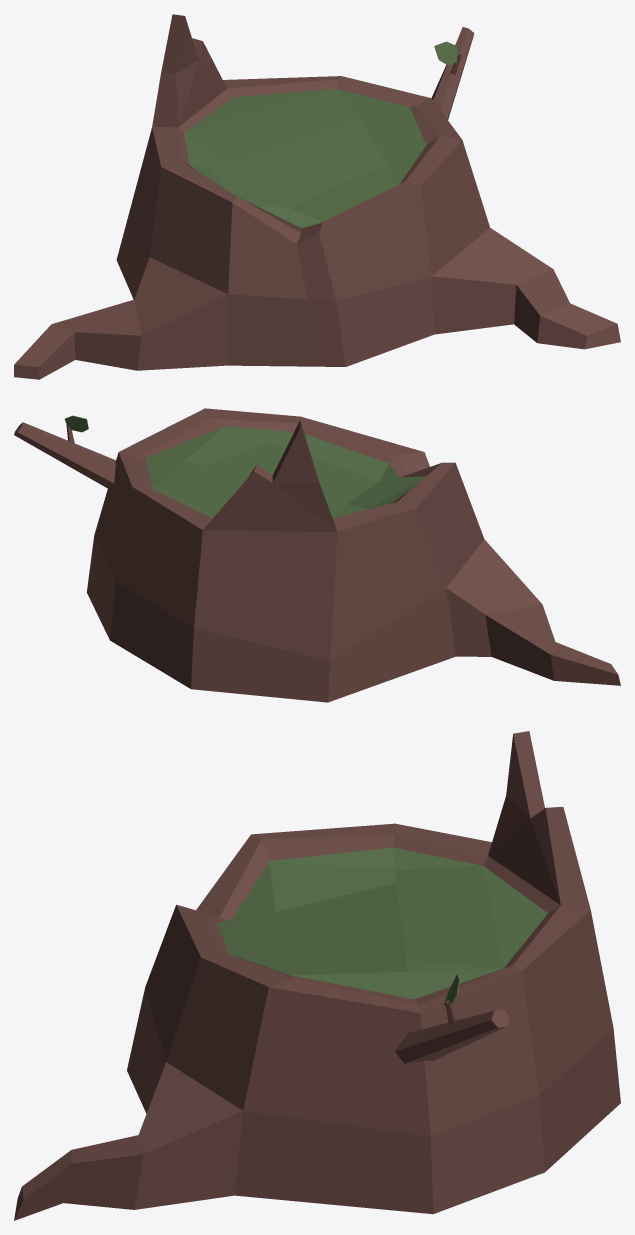
The model's file is TreeStump_Moss.glb.
The picture shows the model from 3 angles, top to bottom: view 1: azimuth 30°, elevation 25°; view 2: azimuth 150°, elevation 25°; view 3: azimuth 270°, elevation 25°; orthographic projection. The views are drawn at different scales.
Visible parts, largest first — view 1: TreeStump_Moss; view 2: TreeStump_Moss; view 3: TreeStump_Moss.
Boxes of the visible parts, x1,y1,x2,y2 form: TreeStump_Moss: (14, 14, 620, 379); TreeStump_Moss: (14, 408, 620, 702); TreeStump_Moss: (14, 731, 620, 1220).
Size of the model in its own units: 1.36 by 0.6216 by 1.03.
